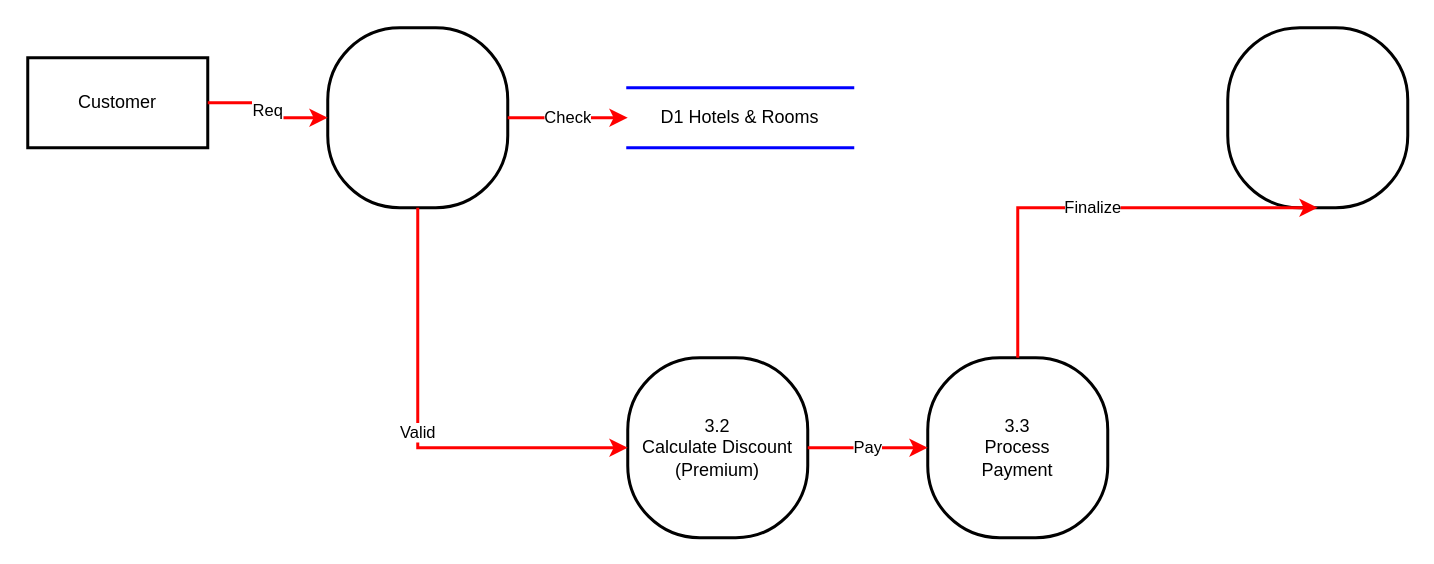
The diagram is 1434 pixels wide and 564 high, and some of its shapes have lost their labels. Here are the shapes that lost their labels. From the top down, the centre of each, then its label:
(x=417, y=117): 3.1 Validate Availability
(x=1317, y=117): 3.4 Create Hotel Booking
